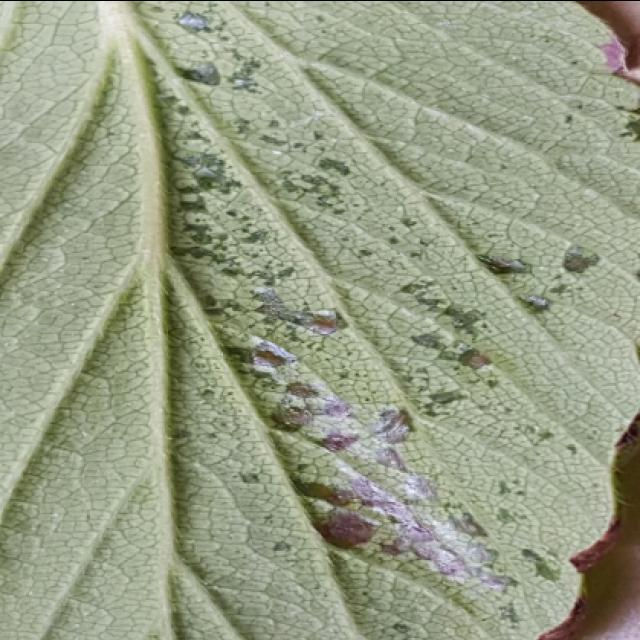Angular Leafspot: (125, 2, 638, 640)
